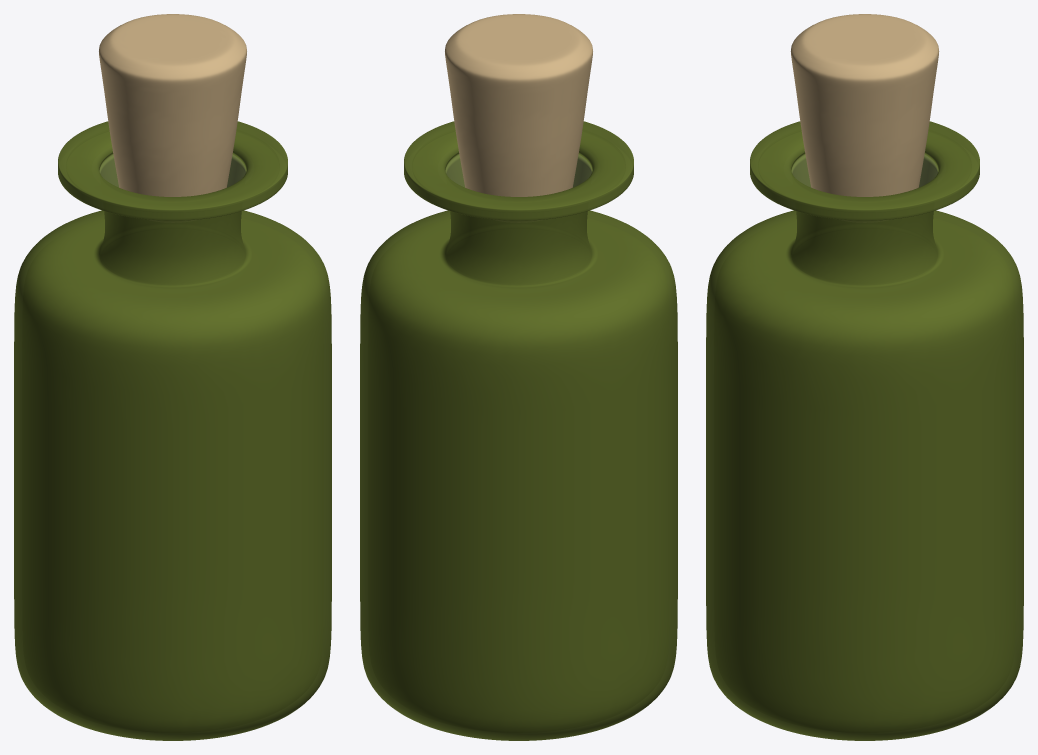
Rendered from olive.glb.
3 views of the same model, side by side, from view 1: azimuth 30°, elevation 25°; view 2: azimuth 150°, elevation 25°; view 3: azimuth 270°, elevation 25° (orthographic).
Visible parts, largest first — view 1: glass, cap; view 2: glass, cap; view 3: glass, cap.
Boxes of the visible parts, x1,y1,x2,y2 form: glass: (14, 121, 331, 740); cap: (99, 14, 246, 196); glass: (360, 121, 677, 740); cap: (445, 14, 592, 196); glass: (706, 121, 1023, 740); cap: (790, 14, 939, 196).
Bounding box in the file's own units: 0.5765 × 1.3 × 0.5765.
